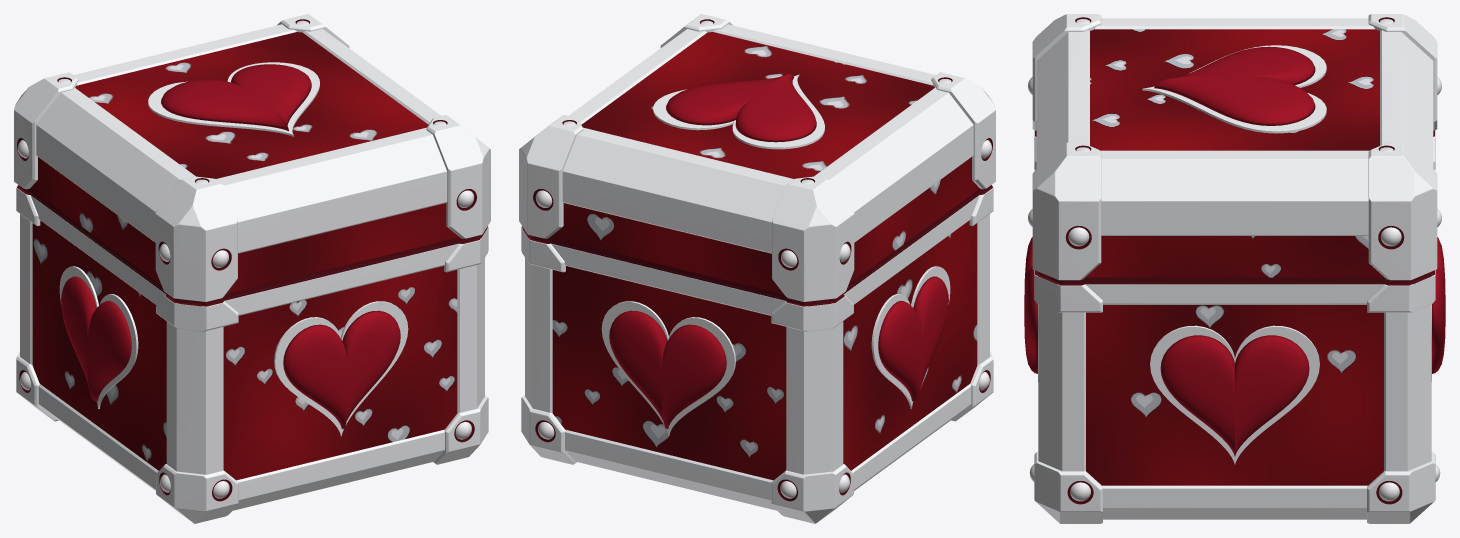
Rendered from case_hearts.glb.
3 renders of one model, left to right at view 1: azimuth 30°, elevation 25°; view 2: azimuth 150°, elevation 25°; view 3: azimuth 270°, elevation 25°, orthographic. The views are drawn at different scales.
Visible parts, largest first — view 1: Shell_Lid, Shell_Base, Heart, Heart.004, Heart.003, HeartRim, HeartRim.004, HeartRim.003; view 2: Shell_Lid, Shell_Base, Heart.002, Heart.004, Heart.003, HeartRim.002, HeartRim.004, HeartRim.003; view 3: Shell_Lid, Shell_Base, Heart.001, Heart.004, HeartRim.001, HeartRim.004, Heart, Heart.002.
Boxes of the visible parts, box(x1,y1,x2,y2) form: Shell_Lid: box(14, 14, 490, 303); Shell_Base: box(16, 185, 488, 523); Heart: box(283, 310, 400, 429); Heart.004: box(161, 64, 311, 131); Heart.003: box(61, 276, 131, 401); HeartRim: box(274, 301, 408, 436); HeartRim.004: box(148, 62, 319, 136); HeartRim.003: box(59, 266, 138, 408); Shell_Lid: box(519, 14, 995, 303); Shell_Base: box(521, 185, 993, 523); Heart.002: box(609, 310, 726, 429); Heart.004: box(666, 74, 816, 142); Heart.003: box(878, 276, 948, 401); HeartRim.002: box(601, 301, 735, 436); HeartRim.004: box(653, 74, 824, 149); HeartRim.003: box(871, 266, 950, 408); Shell_Lid: box(1028, 14, 1441, 282); Shell_Base: box(1029, 130, 1440, 523); Heart.001: box(1160, 335, 1309, 456); Heart.004: box(1154, 46, 1315, 125); HeartRim.001: box(1150, 325, 1319, 464); HeartRim.004: box(1142, 45, 1326, 133); Heart: box(1024, 237, 1037, 373); Heart.002: box(1432, 237, 1445, 373).
Size of the model in its own units: 1.02 by 1 by 1.02.
6 materials, 1 textured.
